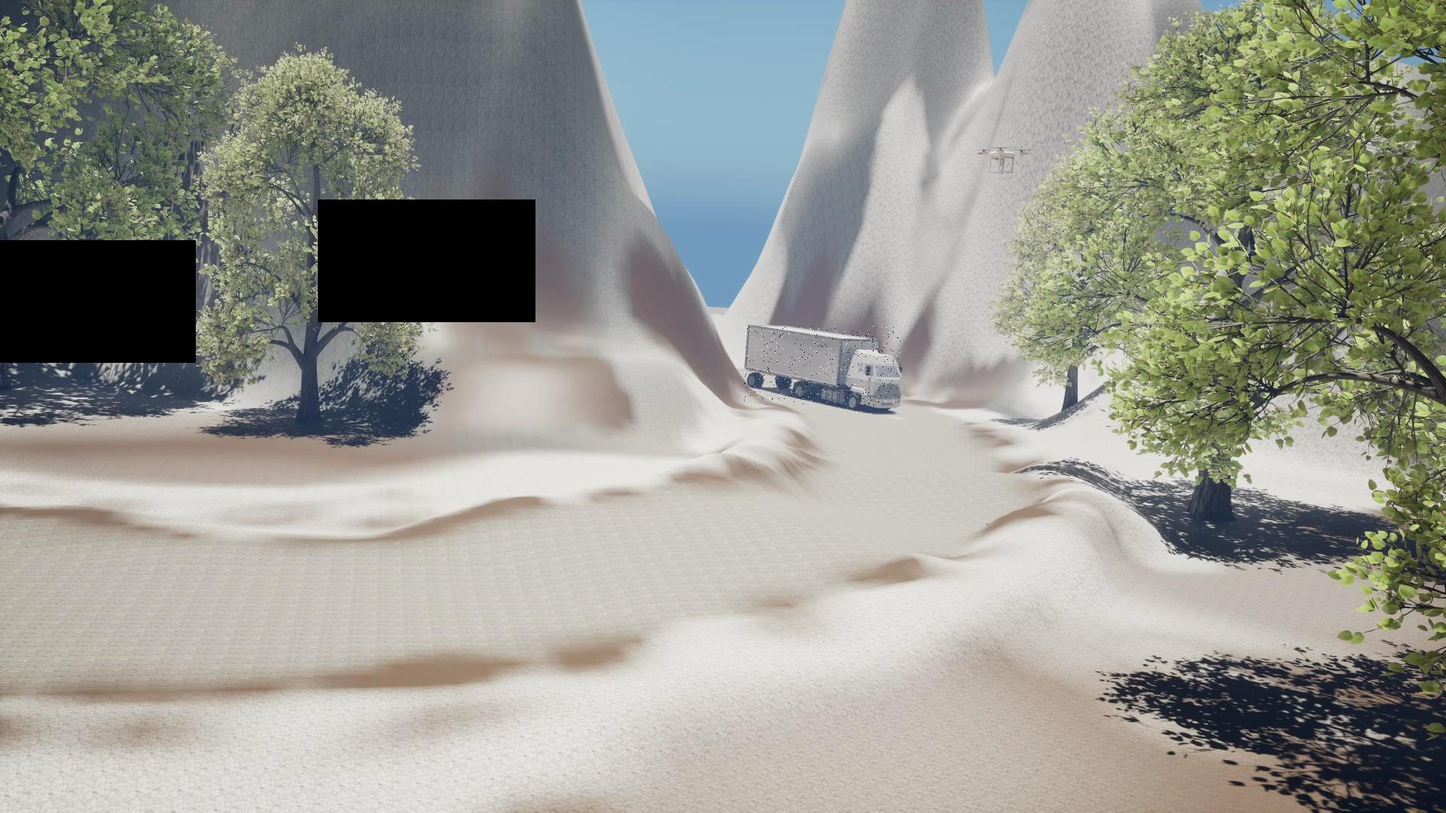truck: (744, 326, 902, 405)
